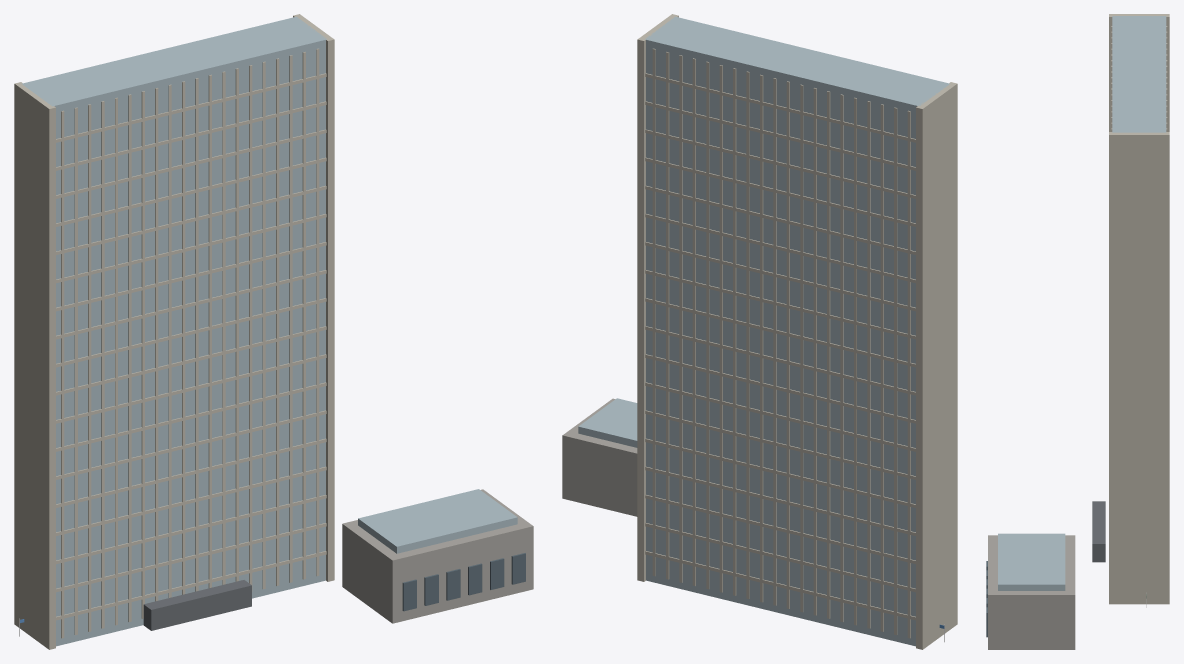
3 renders of one model, left to right at view 1: azimuth 30°, elevation 25°; view 2: azimuth 150°, elevation 25°; view 3: azimuth 270°, elevation 25°, orthographic. The views are drawn at different scales.
Parts seen in each view (by area): view 1: Mesh; view 2: Mesh; view 3: Mesh.
Boxes of the visible parts, bbox=[...] form: Mesh: bbox=[14, 14, 533, 649]; Mesh: bbox=[562, 14, 957, 649]; Mesh: bbox=[986, 14, 1169, 649].
Bounding box in the file's own units: 126 × 154 × 54.5.
